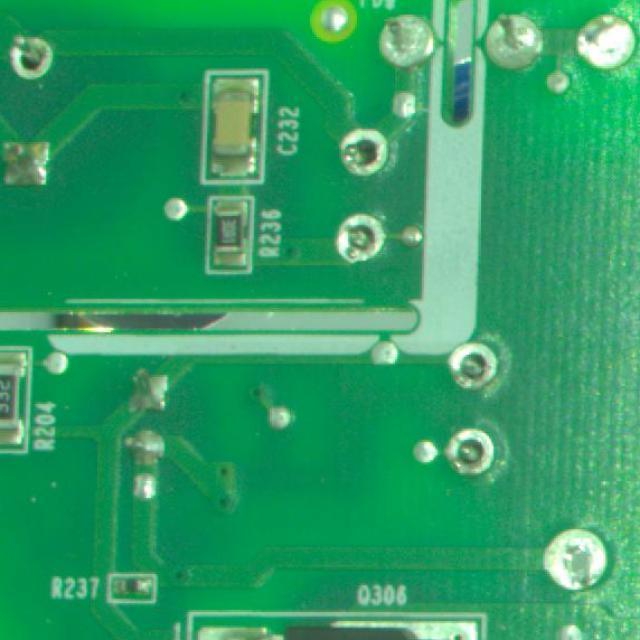Insufficient solder: (542, 522, 616, 596), (331, 207, 391, 274), (576, 11, 640, 73), (330, 120, 393, 178), (442, 422, 499, 486), (448, 338, 503, 395), (5, 32, 58, 80)
